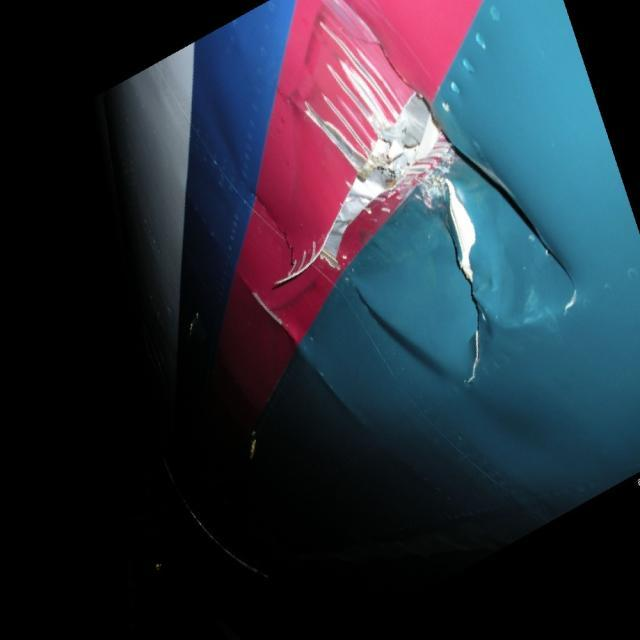crack: (443, 177, 482, 387)
dent: (357, 289, 456, 384), (498, 240, 530, 320)
